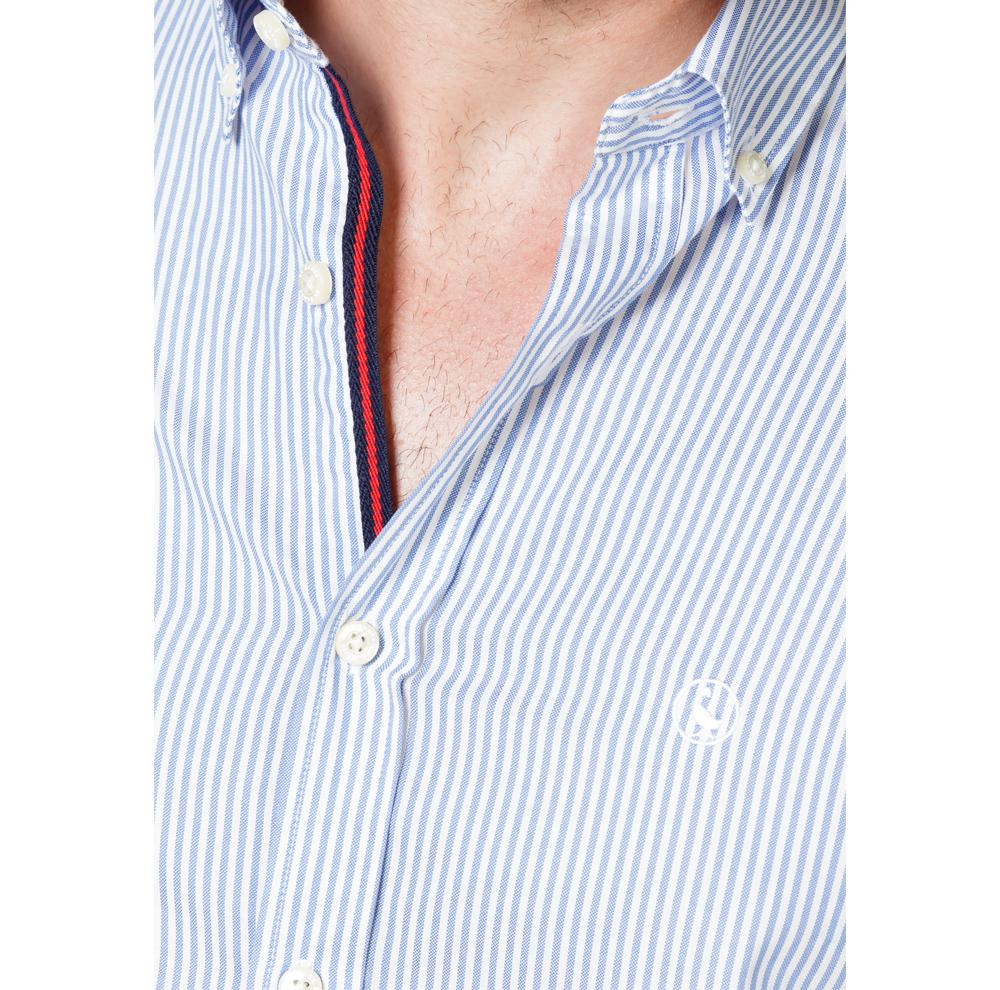teeshirt: (152, 1, 858, 990)
